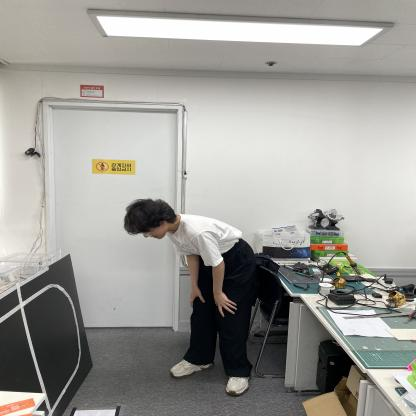fall: (114, 190, 264, 398)
